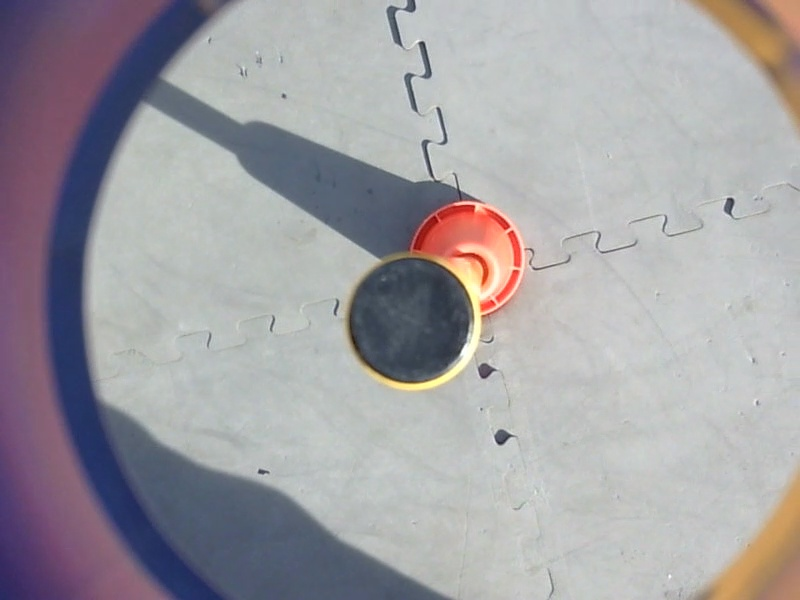tip: (337, 250, 488, 399)
